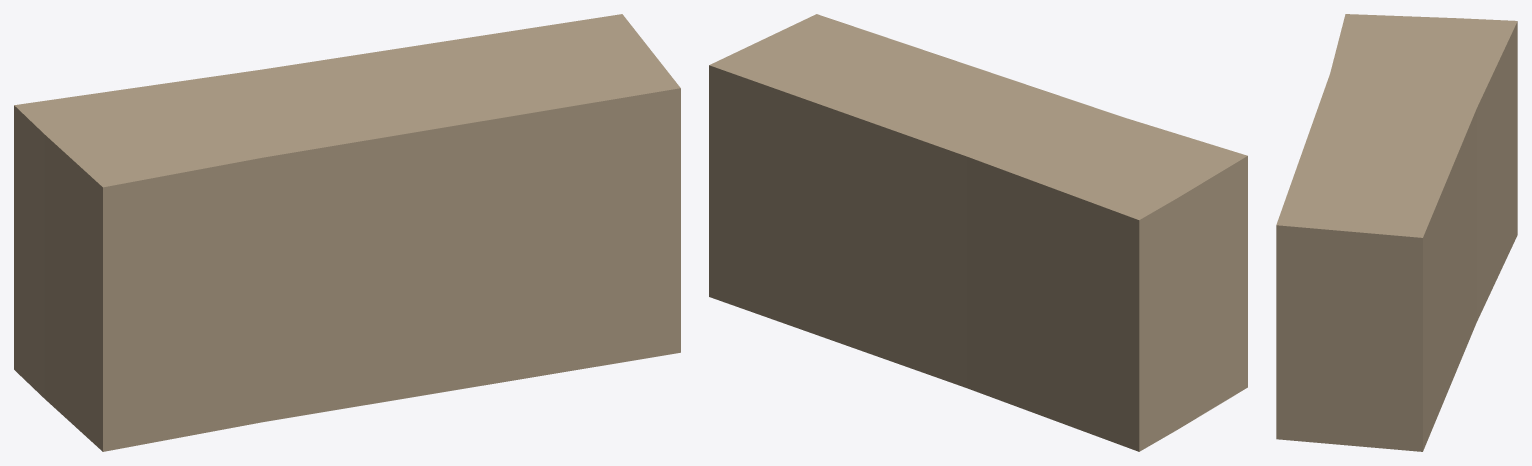
File: bld_98640371.dae
3 renders of one model, left to right at view 1: azimuth 30°, elevation 25°; view 2: azimuth 150°, elevation 25°; view 3: azimuth 270°, elevation 25°, orthographic. The views are drawn at different scales.
Parts seen in each view (by area): view 1: Martin James Opticians; view 2: Martin James Opticians; view 3: Martin James Opticians.
Part boxes in pixels (bbox=[...]): Martin James Opticians: bbox=[14, 14, 680, 451]; Martin James Opticians: bbox=[709, 14, 1247, 451]; Martin James Opticians: bbox=[1276, 14, 1517, 451].
Bounding box in the file's own units: 17.95 × 8.18 × 8.
